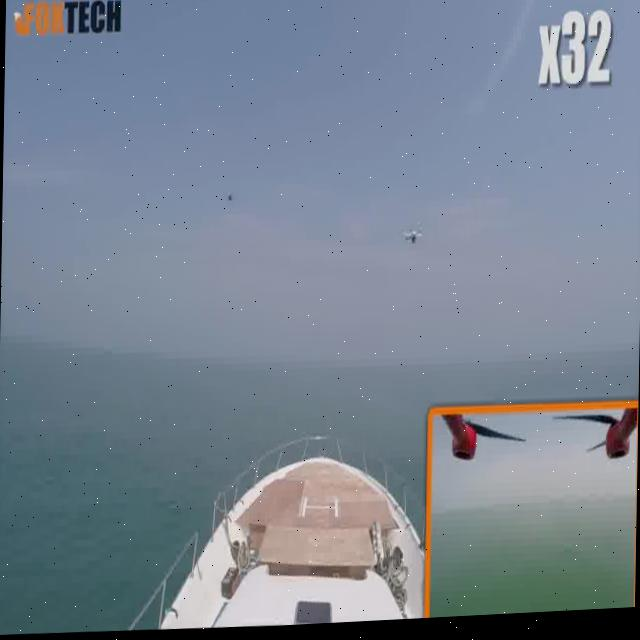drone: (399, 220, 425, 258), (216, 186, 245, 217)
